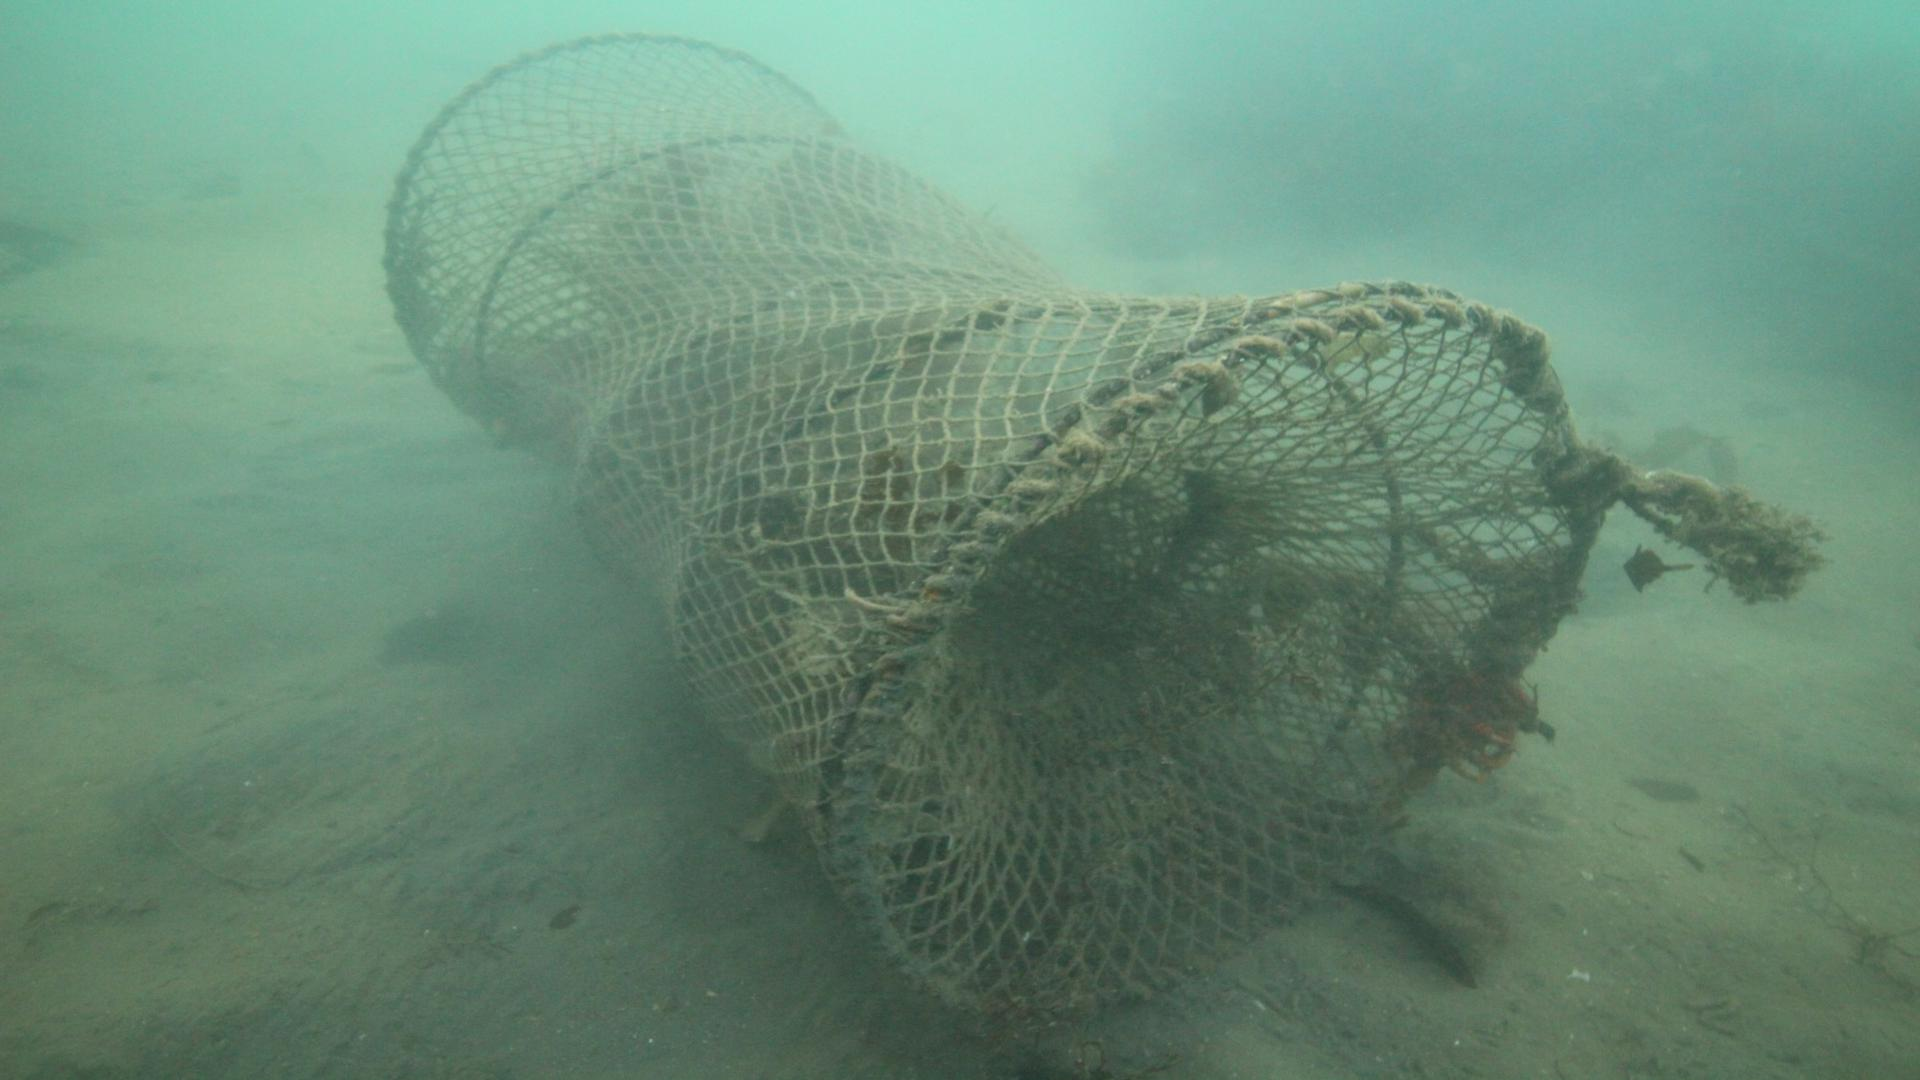spring fish trap: (378, 29, 1596, 1025)
